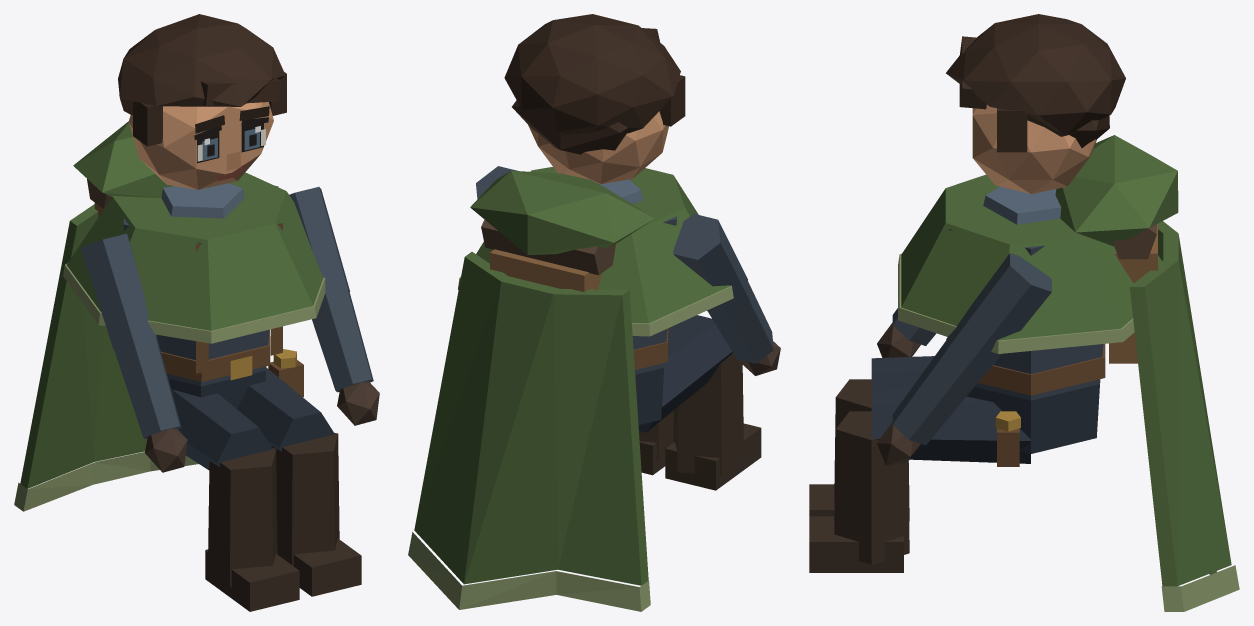
The model's file is cam-sit-hood-down-low.glb.
3 renders of one model, left to right at view 1: azimuth 30°, elevation 25°; view 2: azimuth 150°, elevation 25°; view 3: azimuth 270°, elevation 25°, orthographic. The views are drawn at different scales.
Visible parts, largest first — view 1: cloak, head, knee_R, knee_L, torso, elbow_R, elbow_L, arm_R, leg_R, leg_L, hood_down, arm_L (+3 smaller); view 2: cloak, head, hood_down, knee_R, satchel, leg_R, arm_R, elbow_R, torso, knee_L, hips; view 3: cloak, head, knee_L, hood_down, torso, arm_L, elbow_L, leg_L, hips, satchel, knee_R, leg_R (+2 smaller).
Boxes of the visible parts, <box> form: cloak: <box>14,172,325,511</box>; head: <box>118,14,286,189</box>; knee_R: <box>205,448,299,611</box>; knee_L: <box>271,433,361,596</box>; torso: <box>123,183,282,386</box>; elbow_R: <box>114,336,187,472</box>; elbow_L: <box>312,290,379,425</box>; arm_R: <box>81,233,157,349</box>; leg_R: <box>171,389,272,470</box>; leg_L: <box>237,367,334,451</box>; hood_down: <box>73,121,173,197</box>; arm_L: <box>289,187,349,295</box>; cloak: <box>408,167,733,611</box>; head: <box>504,14,685,183</box>; hood_down: <box>470,170,654,254</box>; knee_R: <box>665,353,761,490</box>; satchel: <box>481,219,615,292</box>; leg_R: <box>638,315,732,432</box>; arm_R: <box>673,214,749,316</box>; elbow_R: <box>708,281,780,375</box>; torso: <box>600,179,676,374</box>; knee_L: <box>639,327,673,475</box>; hips: <box>635,368,664,424</box>; cloak: <box>898,174,1239,611</box>; head: <box>946,14,1125,193</box>; knee_L: <box>809,411,909,572</box>; hood_down: <box>1055,135,1178,246</box>; torso: <box>949,186,1105,400</box>; arm_L: <box>946,253,1051,374</box>; elbow_L: <box>877,340,983,465</box>; leg_L: <box>871,389,1030,463</box>; hips: <box>966,384,1099,453</box>; satchel: <box>1109,224,1157,363</box>; knee_R: <box>809,379,909,520</box>; leg_R: <box>871,356,934,390</box>.
Size of the model in its own units: 0.776 by 1.59 by 1.14.
